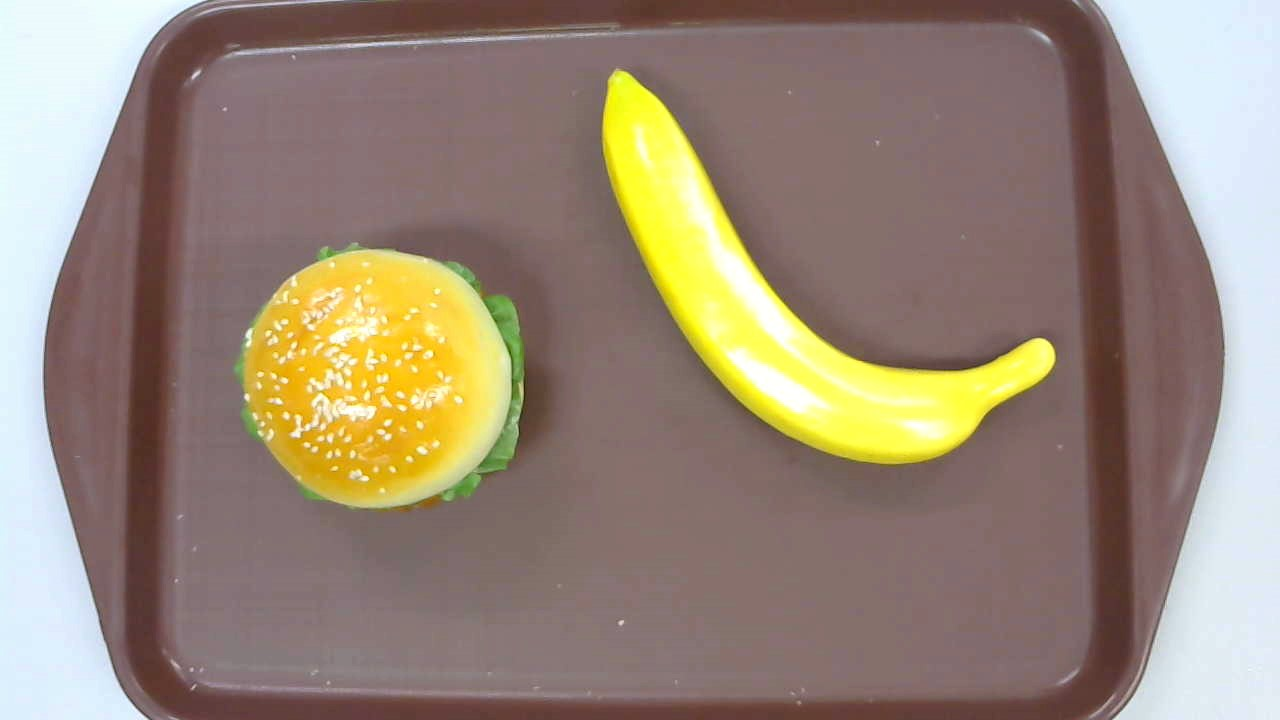banana: (601, 68, 1056, 466)
hamburger: (234, 242, 526, 519)
